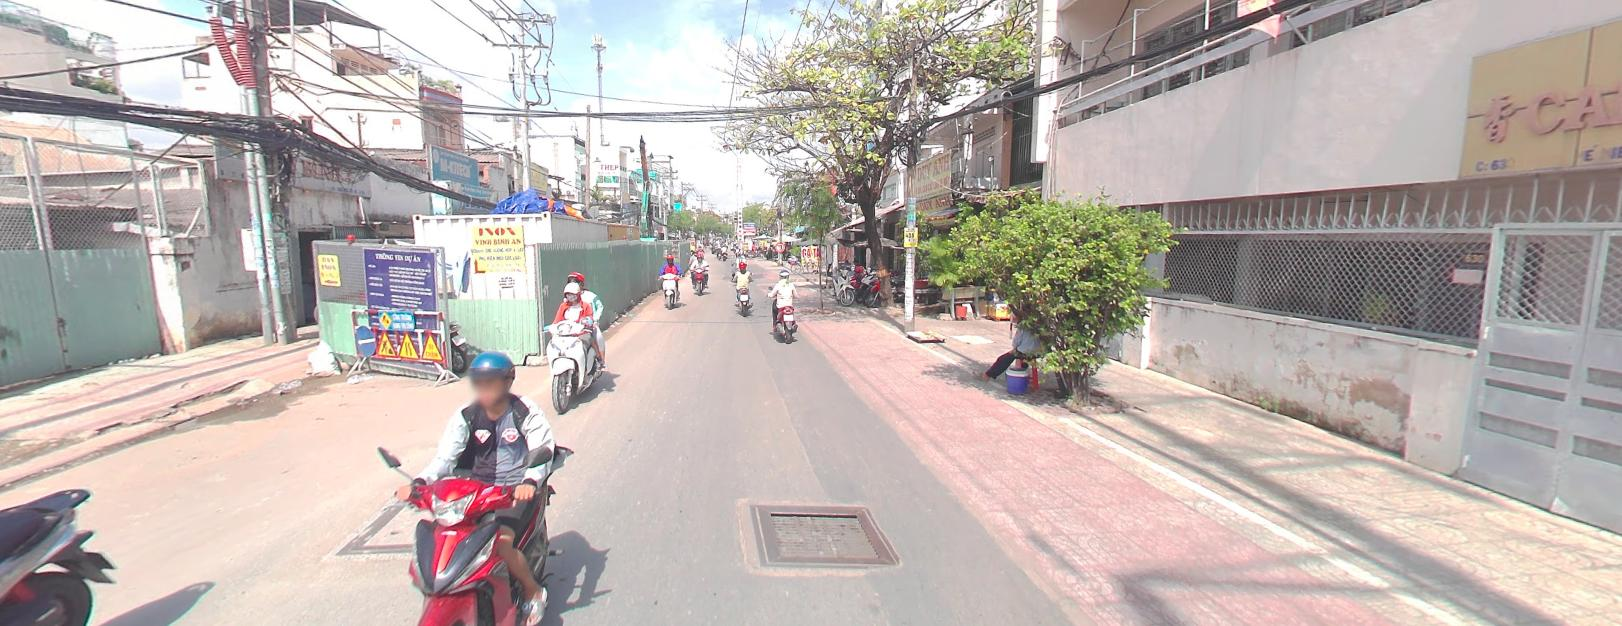Cam re: (774, 240, 785, 250), (775, 241, 785, 251)
Hieu lenh: (355, 322, 376, 356)
Nguy hiem: (422, 328, 445, 360), (398, 328, 421, 359), (376, 329, 397, 356)
